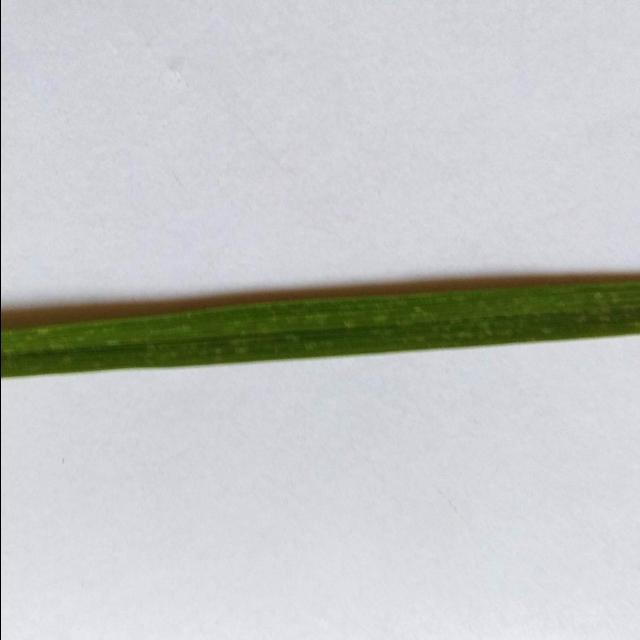healthy: (0, 272, 640, 398)
